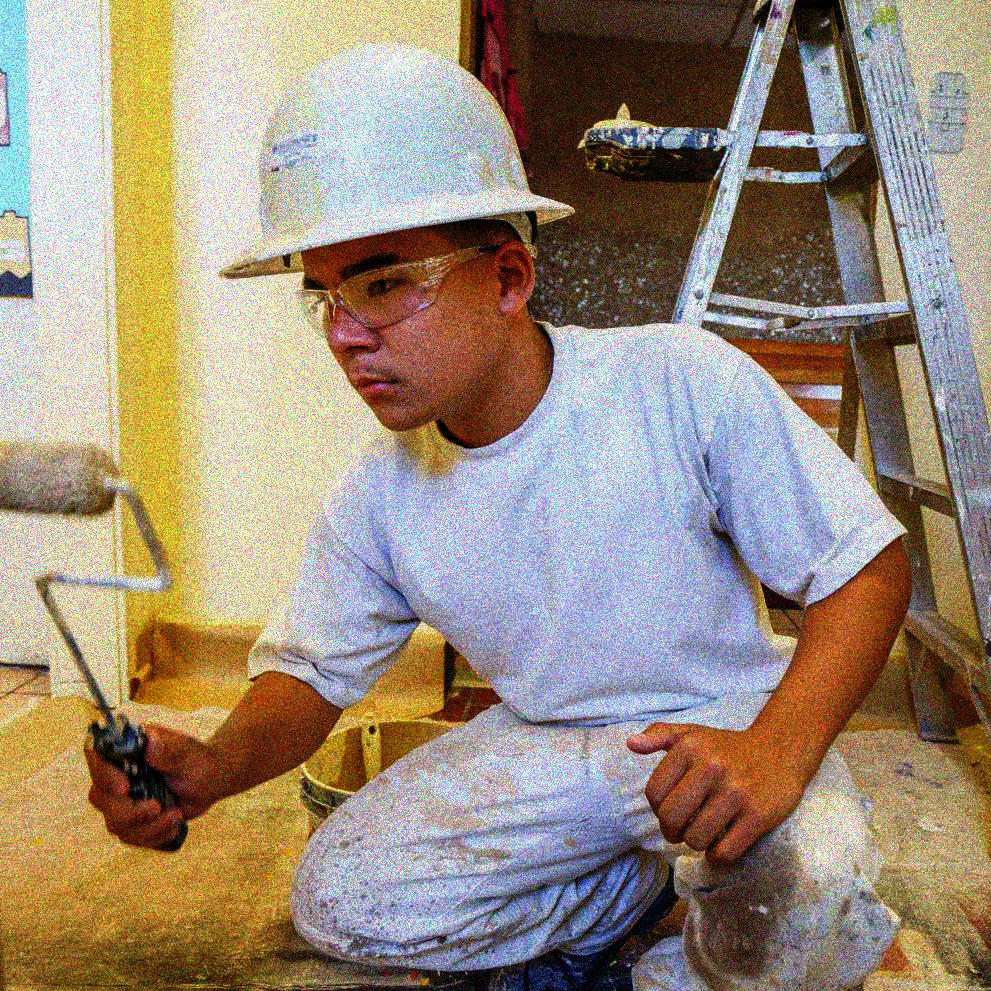helmet: (218, 40, 576, 433)
